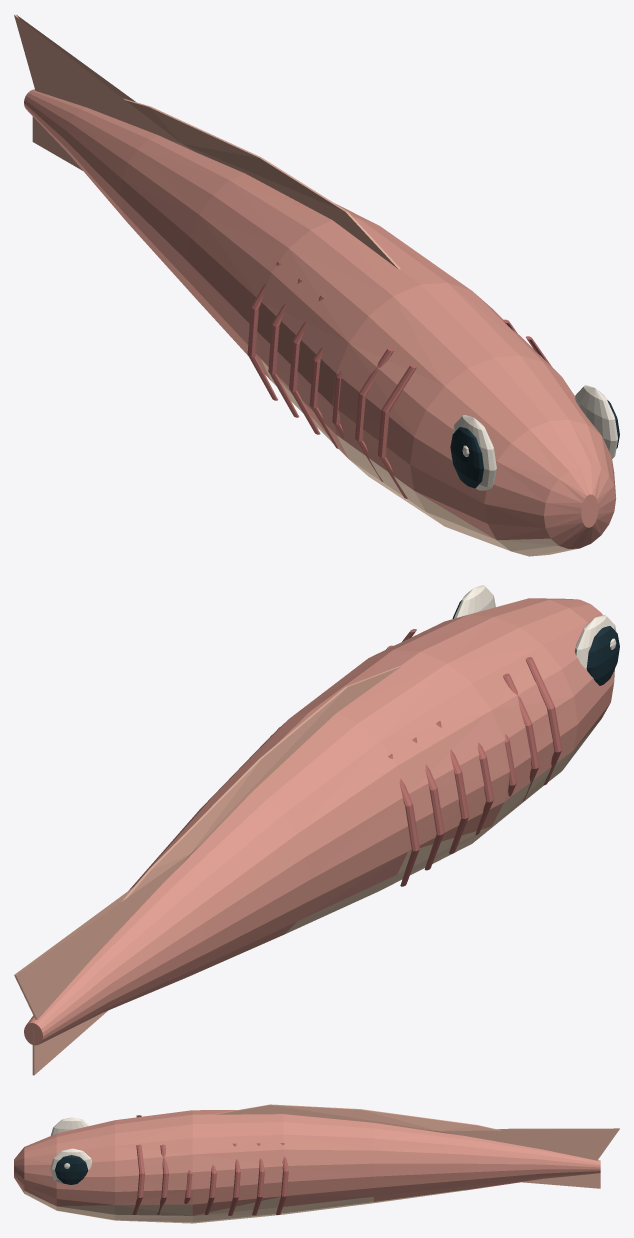
Rendered from metaspriggina.glb.
3 views of the same model, one above another, from view 1: azimuth 30°, elevation 25°; view 2: azimuth 150°, elevation 25°; view 3: azimuth 270°, elevation 25° (orthographic). The views are drawn at different scales.
Parts seen in each view (by area): view 1: soft-body, continuous-dorsal-tail-fold, right-eye-rim, left-eye, left-eye-rim, left-gill-region-1, left-gill-region-7, left-gill-region-6, left-gill-region-2, left-gill-region-5, ventral-tail-fold; view 2: soft-body, continuous-dorsal-tail-fold, left-eye, ventral-tail-fold, left-gill-region-1, left-gill-region-7, left-gill-region-6, left-gill-region-5, right-eye-rim, left-eye-rim, left-gill-region-2; view 3: soft-body, continuous-dorsal-tail-fold, right-eye, ventral-tail-fold, right-eye-rim, right-gill-region-1, left-eye-rim, right-gill-region-2, right-gill-region-7, right-gill-region-6, right-gill-region-5, right-gill-region-4.
Boxes of the visible parts, x1=… form: soft-body: x1=24, y1=89, x2=616, y2=556; continuous-dorsal-tail-fold: x1=14, y1=14, x2=400, y2=269; right-eye-rim: x1=574, y1=385, x2=617, y2=458; left-eye: x1=450, y1=427, x2=483, y2=488; left-eye-rim: x1=452, y1=415, x2=496, y2=490; left-gill-region-1: x1=378, y1=364, x2=416, y2=498; left-gill-region-7: x1=247, y1=261, x2=280, y2=400; left-gill-region-6: x1=268, y1=278, x2=302, y2=417; left-gill-region-2: x1=355, y1=347, x2=394, y2=481; left-gill-region-5: x1=289, y1=295, x2=324, y2=434; ventral-tail-fold: x1=32, y1=116, x2=82, y2=170; soft-body: x1=24, y1=598, x2=614, y2=1045; continuous-dorsal-tail-fold: x1=14, y1=666, x2=400, y2=1019; left-eye: x1=586, y1=626, x2=619, y2=685; ventral-tail-fold: x1=32, y1=1010, x2=107, y2=1075; left-gill-region-1: x1=525, y1=657, x2=562, y2=785; left-gill-region-7: x1=388, y1=754, x2=419, y2=886; left-gill-region-6: x1=412, y1=737, x2=444, y2=870; left-gill-region-5: x1=436, y1=721, x2=469, y2=853; right-eye-rim: x1=454, y1=585, x2=495, y2=618; left-eye-rim: x1=574, y1=615, x2=616, y2=669; left-gill-region-2: x1=503, y1=673, x2=539, y2=801; soft-body: x1=14, y1=1110, x2=600, y2=1223; continuous-dorsal-tail-fold: x1=214, y1=1104, x2=619, y2=1160; right-eye: x1=55, y1=1155, x2=88, y2=1184; ventral-tail-fold: x1=522, y1=1173, x2=600, y2=1188; right-eye-rim: x1=50, y1=1148, x2=91, y2=1183; right-gill-region-1: x1=132, y1=1144, x2=144, y2=1214; left-eye-rim: x1=50, y1=1117, x2=89, y2=1135; right-gill-region-2: x1=157, y1=1144, x2=168, y2=1214; right-gill-region-7: x1=276, y1=1143, x2=288, y2=1214; right-gill-region-6: x1=252, y1=1143, x2=264, y2=1215; right-gill-region-5: x1=228, y1=1143, x2=240, y2=1215; right-gill-region-4: x1=204, y1=1165, x2=216, y2=1214.
Size of the model in its own units: 0.012 by 0.0137 by 0.0655.
